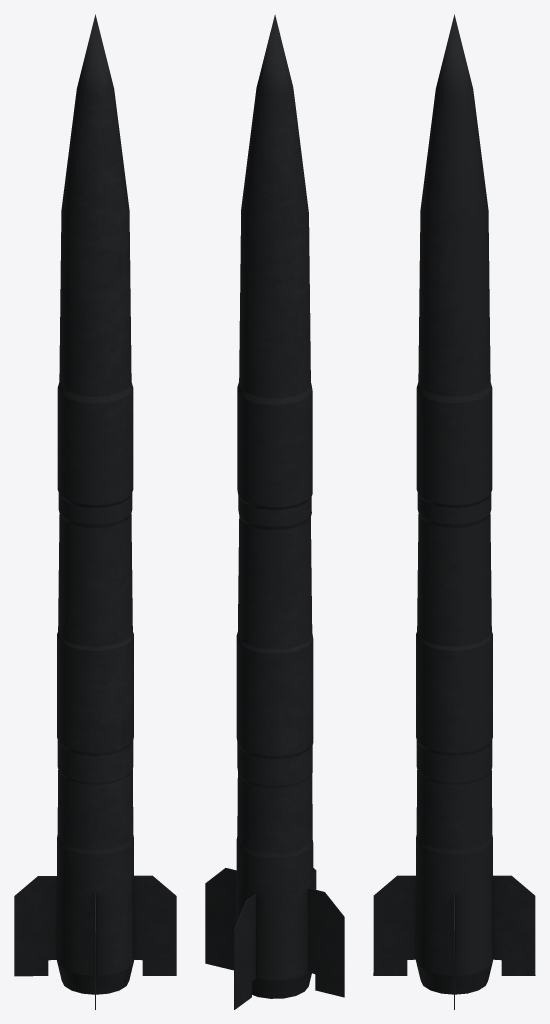
Rendered from Fictional  missile 1 Black.FBX.
3 views of the same model, side by side, from view 1: azimuth 90°, elevation 25°; view 2: azimuth 150°, elevation 25°; view 3: azimuth 270°, elevation 25° (orthographic).
Parts seen in each view (by area): view 1: Fictional missile 1 Black; view 2: Fictional missile 1 Black; view 3: Fictional missile 1 Black.
Part boxes in pixels (box(x1,y1,x2,y2)): Fictional missile 1 Black: box(14, 14, 176, 1009); Fictional missile 1 Black: box(205, 14, 344, 1009); Fictional missile 1 Black: box(373, 14, 535, 1009).
Size of the model in its own units: 164 by 1094 by 166.
1 material, 1 textured.
